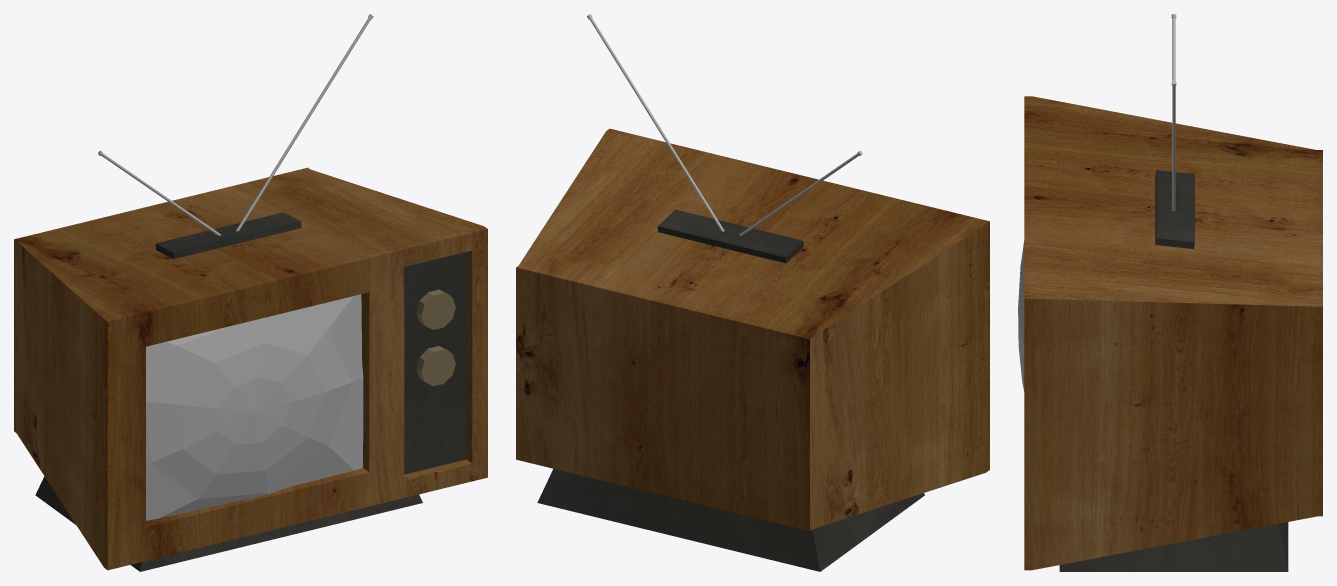
3 renders of one model, left to right at view 1: azimuth 30°, elevation 25°; view 2: azimuth 150°, elevation 25°; view 3: azimuth 270°, elevation 25°, orthographic. The views are drawn at different scales.
Parts seen in each view (by area): view 1: pCube1, pSphere1, pCube2, pCube3, pCylinder2, pCylinder1, pCylinder4; view 2: pCube1, pCube2, pCube3, pCylinder4; view 3: pCube1, pCube2, pCube3, pSphere1, pCylinder4.
Boxes of the visible parts, bbox=[...] form: pCube1: bbox=[14, 167, 487, 570]; pSphere1: bbox=[146, 294, 363, 520]; pCube2: bbox=[35, 476, 422, 571]; pCube3: bbox=[155, 212, 301, 258]; pCylinder2: bbox=[416, 346, 455, 386]; pCylinder1: bbox=[416, 289, 455, 329]; pCylinder4: bbox=[236, 14, 373, 231]; pCube1: bbox=[516, 128, 989, 531]; pCube2: bbox=[537, 469, 924, 571]; pCube3: bbox=[657, 209, 803, 263]; pCylinder4: bbox=[587, 14, 724, 231]; pCube1: bbox=[1024, 96, 1322, 570]; pCube2: bbox=[1059, 522, 1288, 571]; pCube3: bbox=[1155, 170, 1194, 248]; pSphere1: bbox=[1018, 241, 1024, 391]; pCylinder4: bbox=[1171, 80, 1176, 211].
Bounding box in the file's own units: 65.06 × 73.65 × 41.41.
5 materials, 2 textured.
